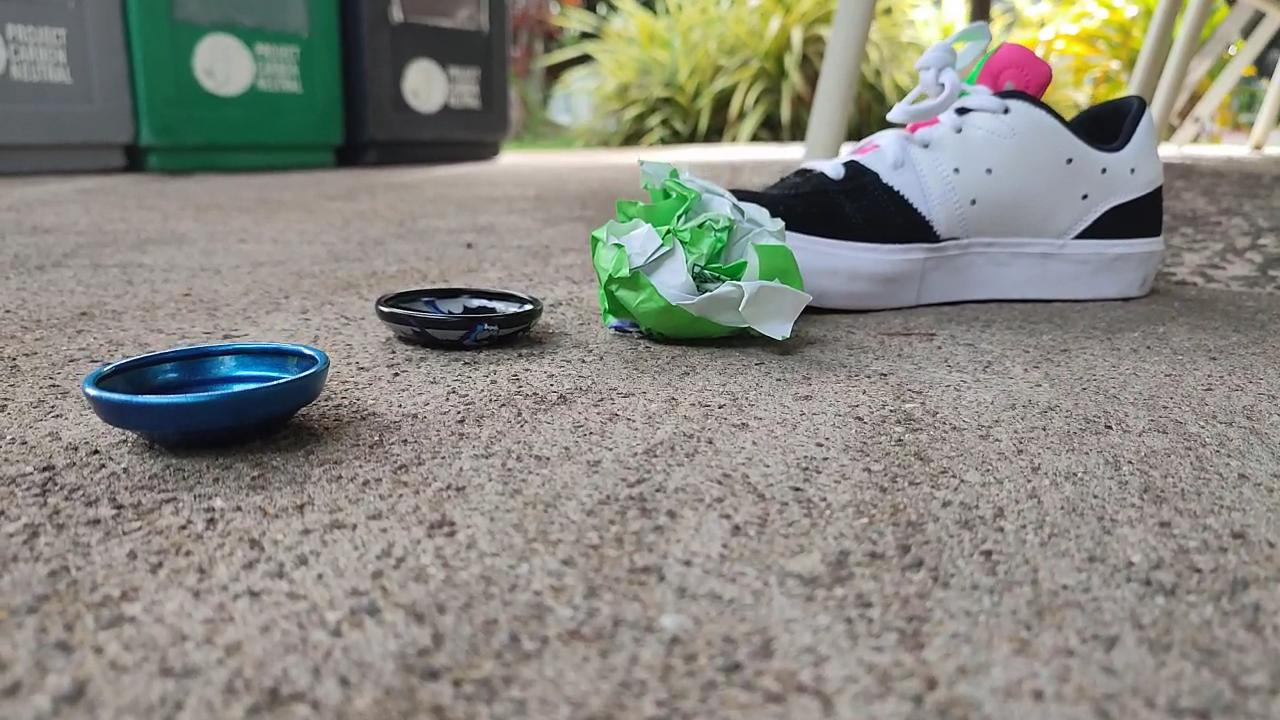Paper: (569, 145, 825, 364)
